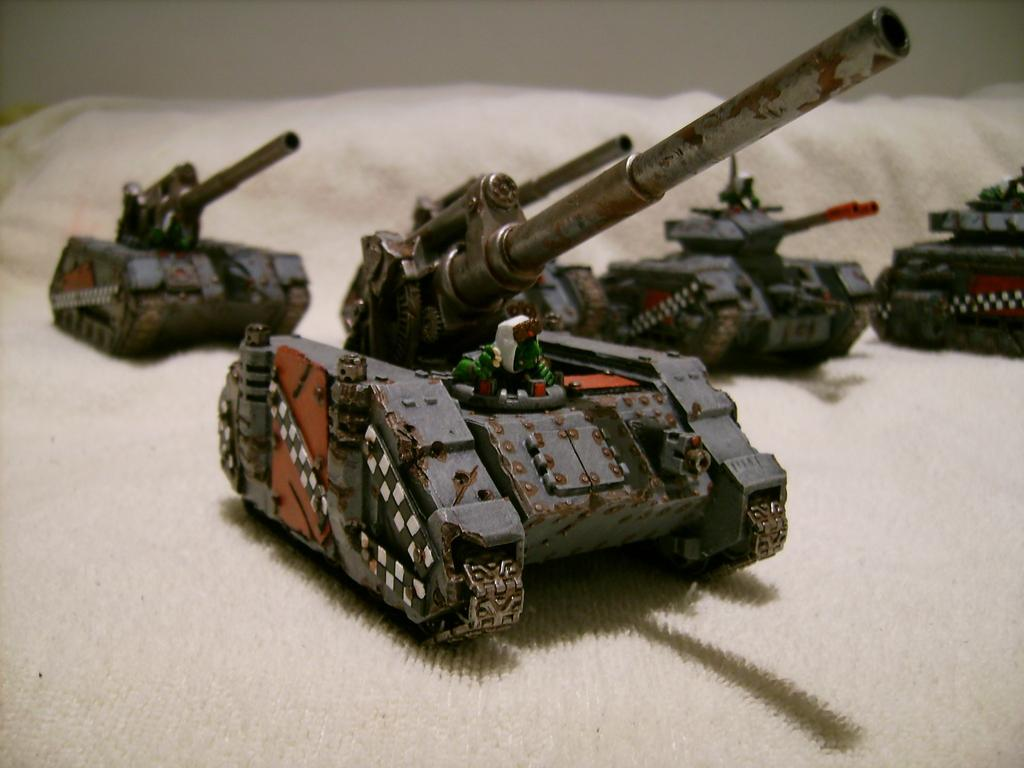Tank: (216, 6, 910, 644), (596, 158, 880, 371), (48, 131, 310, 359), (339, 135, 632, 335), (873, 167, 1023, 356)
